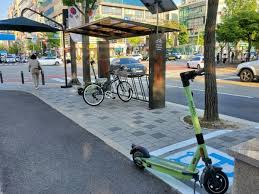kick_board: (132, 69, 229, 194)
kick_body: (149, 158, 192, 178)
kick_wheel: (204, 166, 228, 194), (131, 145, 148, 167)
